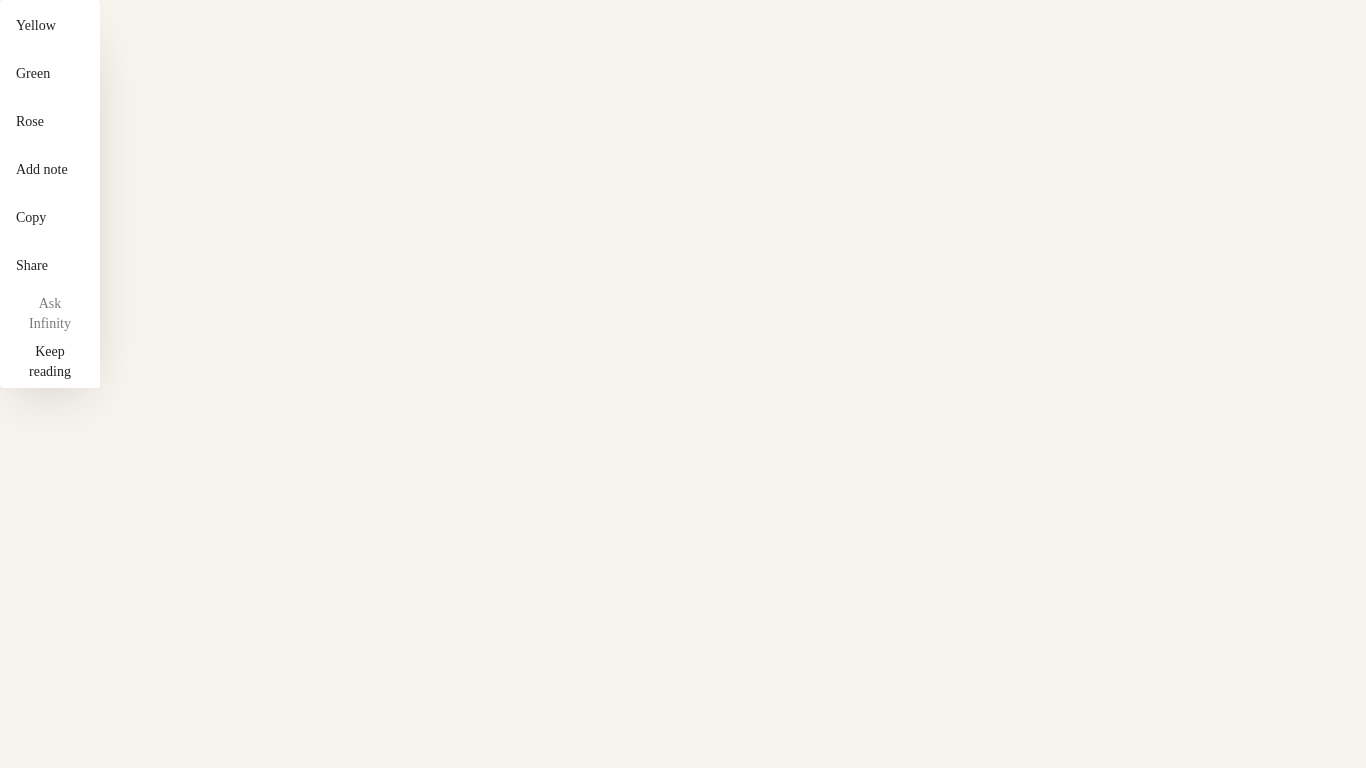
Scenario: ReaderSelectionToolbar › copies the card-URL text when navigator.share rejects for a reason other than cancel
The width and height of the screenshot is (1366, 768).
What coordinates should you click on to do the following:
click the button "Share"
I would click on:
 (32, 266)
Its box is 4,244 -> 60,288.
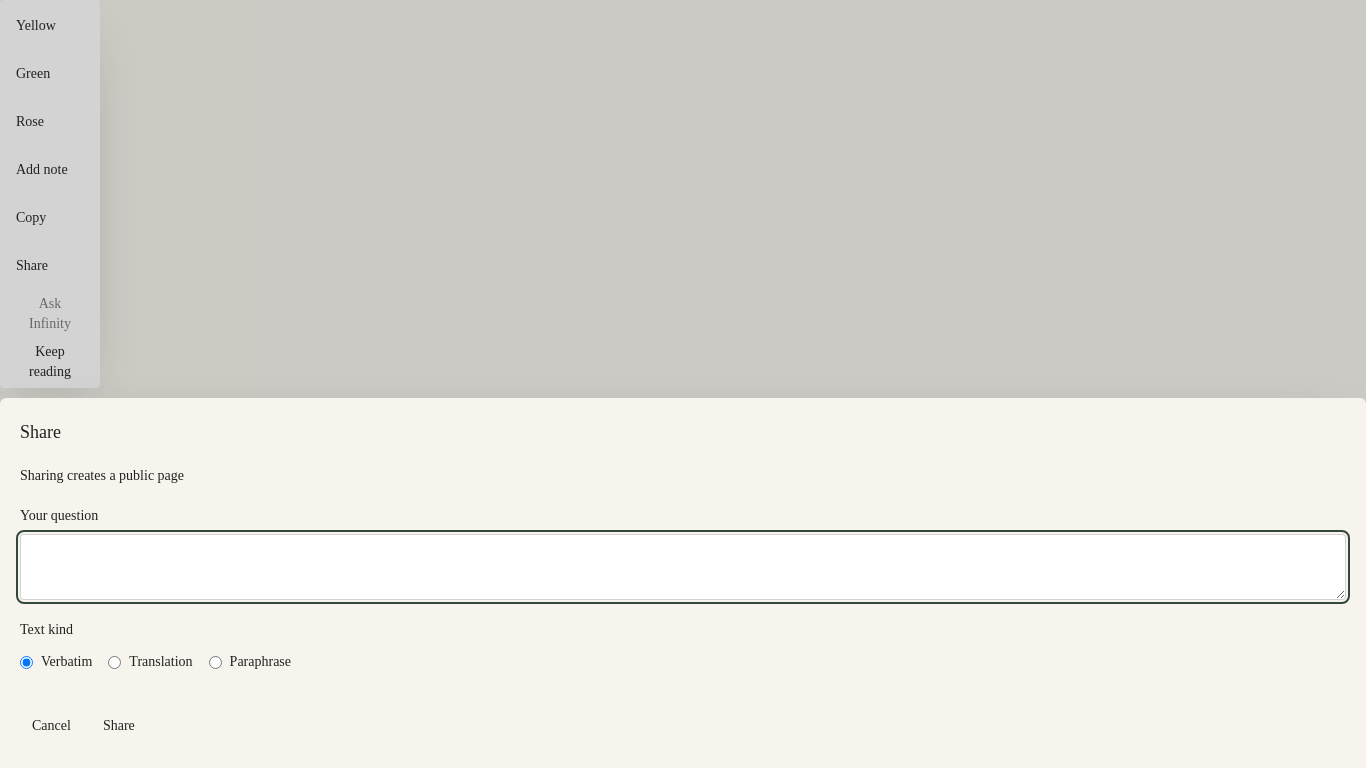
What coordinates should you click on to do the following:
click the button "Share"
I would click on:
 (119, 726)
Its box is 91,704 -> 147,748.
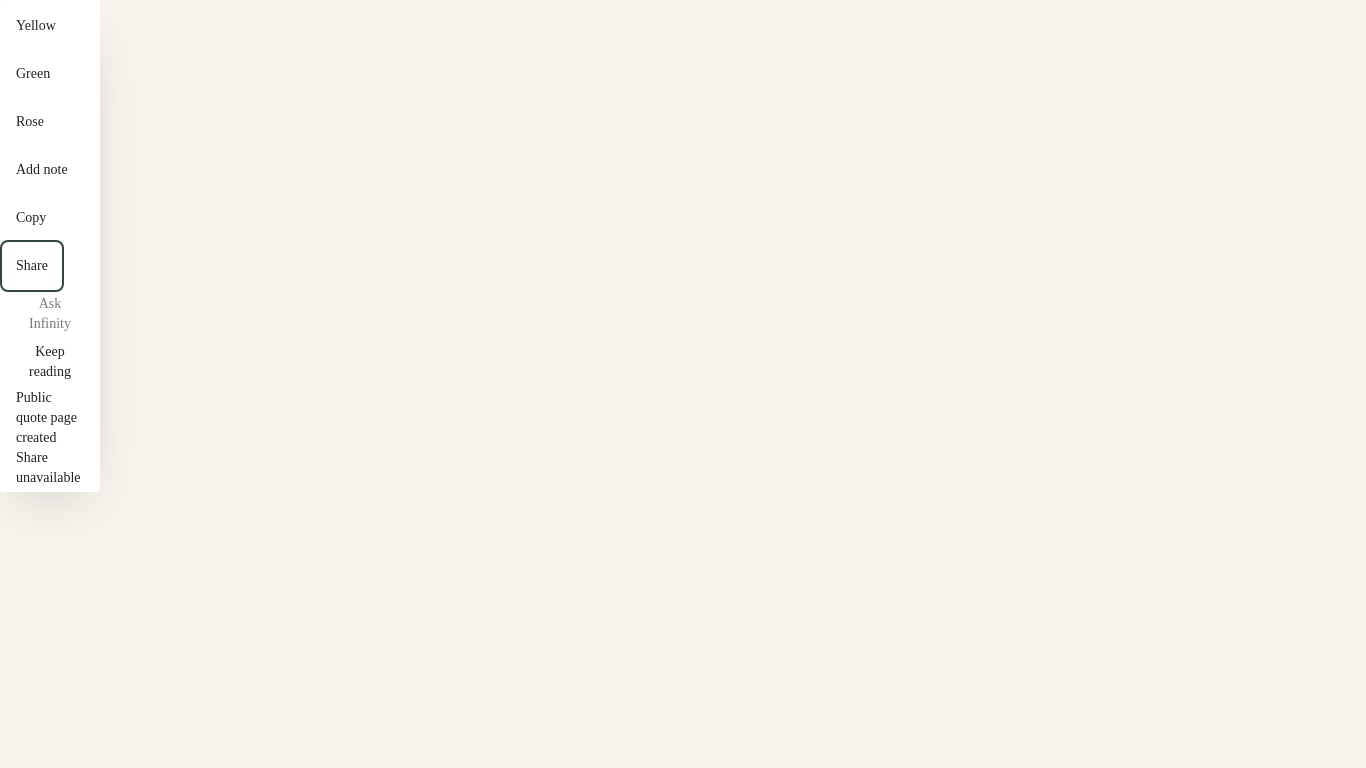
Expected: the message does not show "Copy failed", 16,390 -> 80,485
Expected: the message reads "Public quote page created Share unavailable", 16,390 -> 80,485
